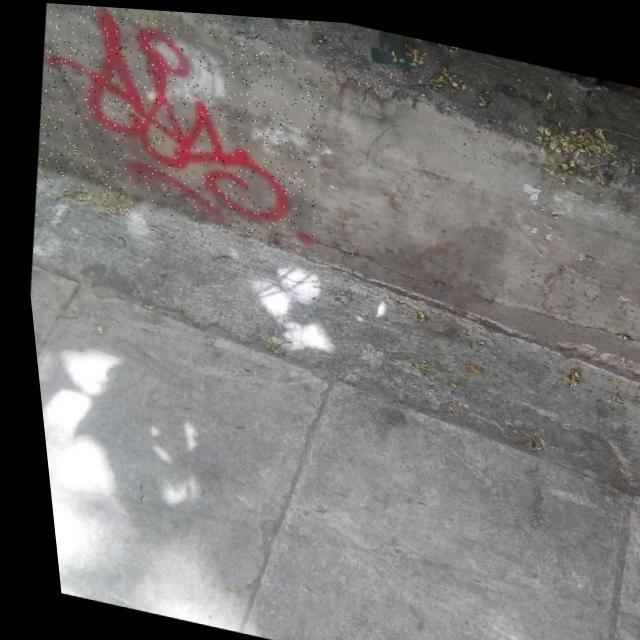-: (17, 1, 341, 246)
